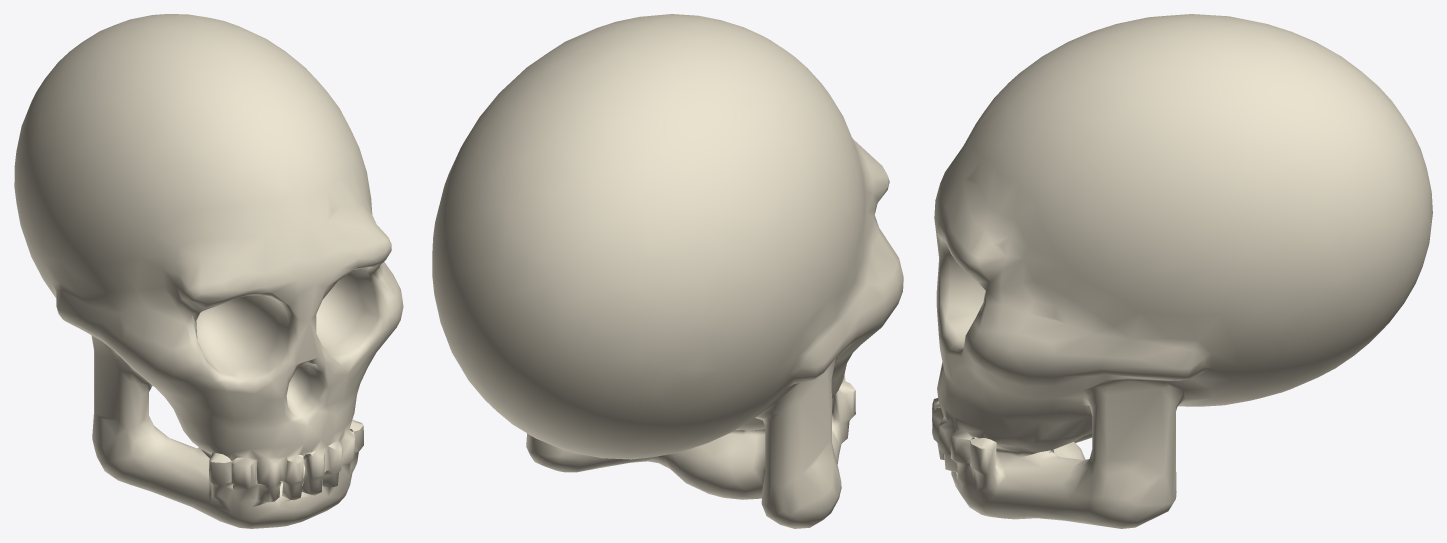
The model's file is skull.glb.
The picture shows the model from 3 angles, left to right: view 1: azimuth 30°, elevation 25°; view 2: azimuth 150°, elevation 25°; view 3: azimuth 270°, elevation 25°; orthographic projection. The views are drawn at different scales.
Parts seen in each view (by area): view 1: Skull; view 2: Skull; view 3: Skull.
Part boxes in pixels (x1,y1,x2,y2): Skull: (14,14,403,528); Skull: (432,14,903,528); Skull: (932,14,1432,528).
Size of the model in its own units: 0.7692 by 1.1 by 1.05.
